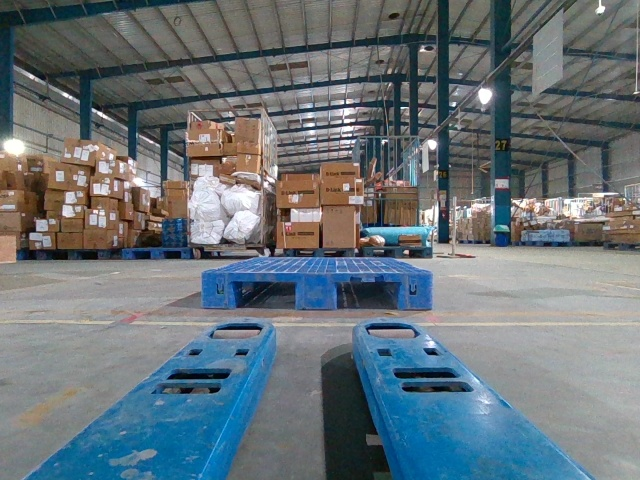block: (295, 270, 341, 309), (201, 271, 239, 309), (399, 271, 434, 310)
front: (201, 271, 433, 309)
hole pallet: (335, 280, 400, 309), (236, 281, 297, 308)
